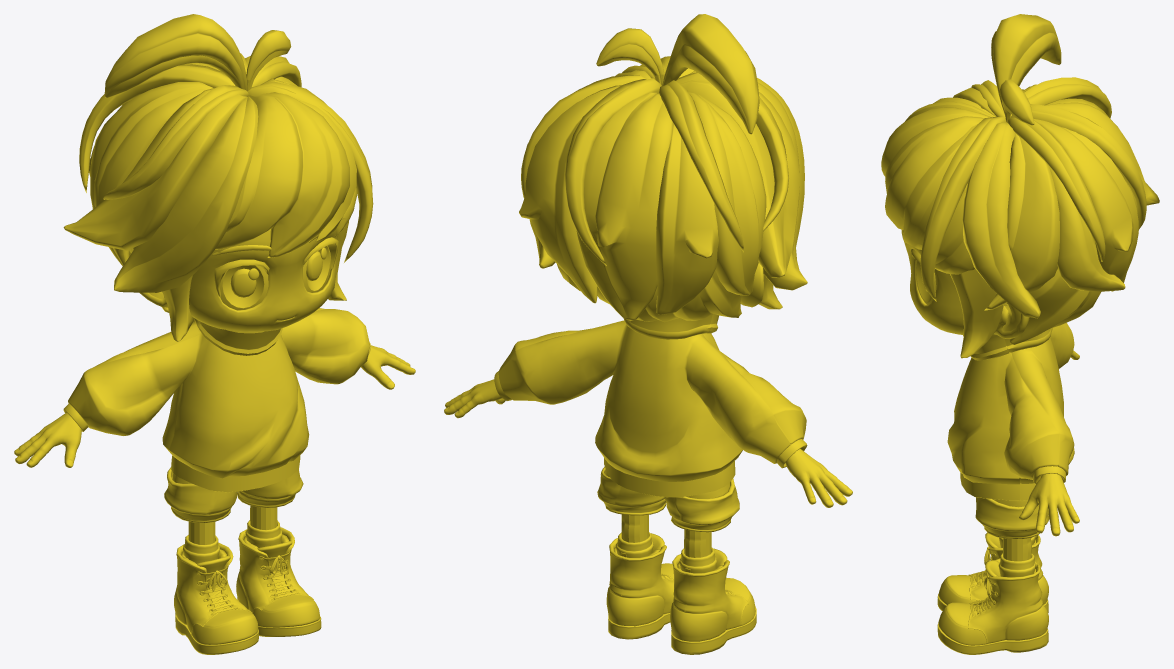
The model's file is color.fbx.
3 renders of one model, left to right at view 1: azimuth 30°, elevation 25°; view 2: azimuth 150°, elevation 25°; view 3: azimuth 270°, elevation 25°, orthographic. The views are drawn at different scales.
Parts seen in each view (by area): view 1: cloth_geo, hairA_geo, hairB_geo, hairC_geo, face_geo, shoes_geo_R, shoes_geo_L, hairT_geo, hairE_geo, pants_geo, hairD_geo, hairS_geo (+10 smaller); view 2: cloth_geo, hairG_geo, hairF_geo, hairE_geo, hairH_geo, shoes_geo_R, shoes_geo_L, hairT_geo, hairC_geo, pants_geo, hairR_geo, hairS_geo (+9 smaller); view 3: cloth_geo, hairA_geo, shoes_geo_L, hairP_geo, hairJ_geo, hairH_geo, hairO_geo, hairT_geo, hairI_geo, face_geo, hairQ_geo, hairR_geo (+11 smaller).
Boxes of the visible parts, <box> form: cloth_geo: <box>63,308,370,492</box>; hairA_geo: <box>215,92,357,257</box>; hairB_geo: <box>114,96,258,292</box>; hairC_geo: <box>63,88,246,250</box>; face_geo: <box>139,228,337,331</box>; shoes_geo_R: <box>174,535,258,654</box>; shoes_geo_L: <box>236,520,321,636</box>; hairT_geo: <box>104,14,247,97</box>; hairE_geo: <box>90,82,213,266</box>; pants_geo: <box>164,467,303,522</box>; hairD_geo: <box>103,85,248,199</box>; hairS_geo: <box>79,64,235,192</box>; cloth_geo: <box>494,313,807,497</box>; hairG_geo: <box>576,92,673,321</box>; hairF_geo: <box>656,123,718,314</box>; hairE_geo: <box>689,92,766,295</box>; hairH_geo: <box>519,85,621,303</box>; shoes_geo_R: <box>670,547,756,654</box>; shoes_geo_L: <box>606,532,673,639</box>; hairT_geo: <box>662,14,759,134</box>; hairC_geo: <box>681,80,800,277</box>; pants_geo: <box>597,466,739,532</box>; hairR_geo: <box>564,78,661,265</box>; hairS_geo: <box>659,80,743,252</box>; cloth_geo: <box>947,323,1074,500</box>; hairA_geo: <box>881,107,990,274</box>; shoes_geo_L: <box>937,553,1048,654</box>; hairP_geo: <box>962,122,1040,318</box>; hairJ_geo: <box>984,133,1059,310</box>; hairH_geo: <box>1033,119,1138,291</box>; hairO_geo: <box>920,116,1006,301</box>; hairT_geo: <box>991,14,1061,115</box>; hairI_geo: <box>1049,167,1125,291</box>; face_geo: <box>901,230,1029,338</box>; hairQ_geo: <box>1007,116,1105,261</box>; hairR_geo: <box>1011,104,1146,229</box>.
Size of the model in its own units: 8.89 by 13.3 by 5.65.
